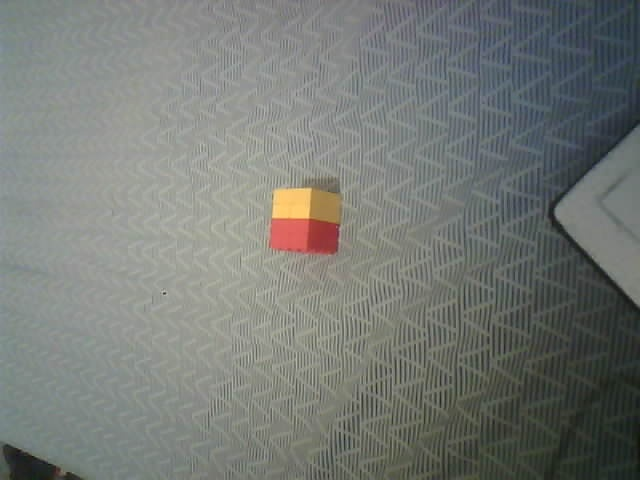lego: (267, 186, 342, 256)
